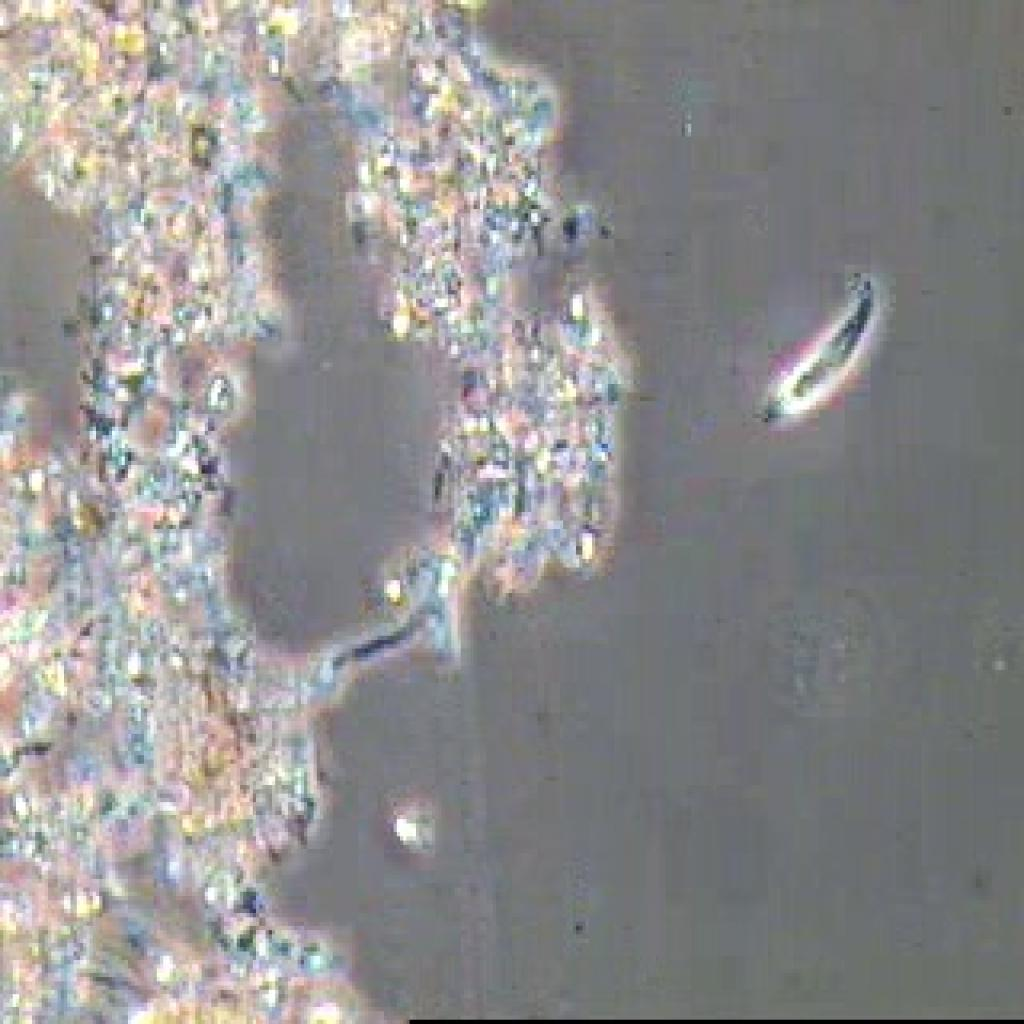Pristina: (744, 241, 901, 454)
